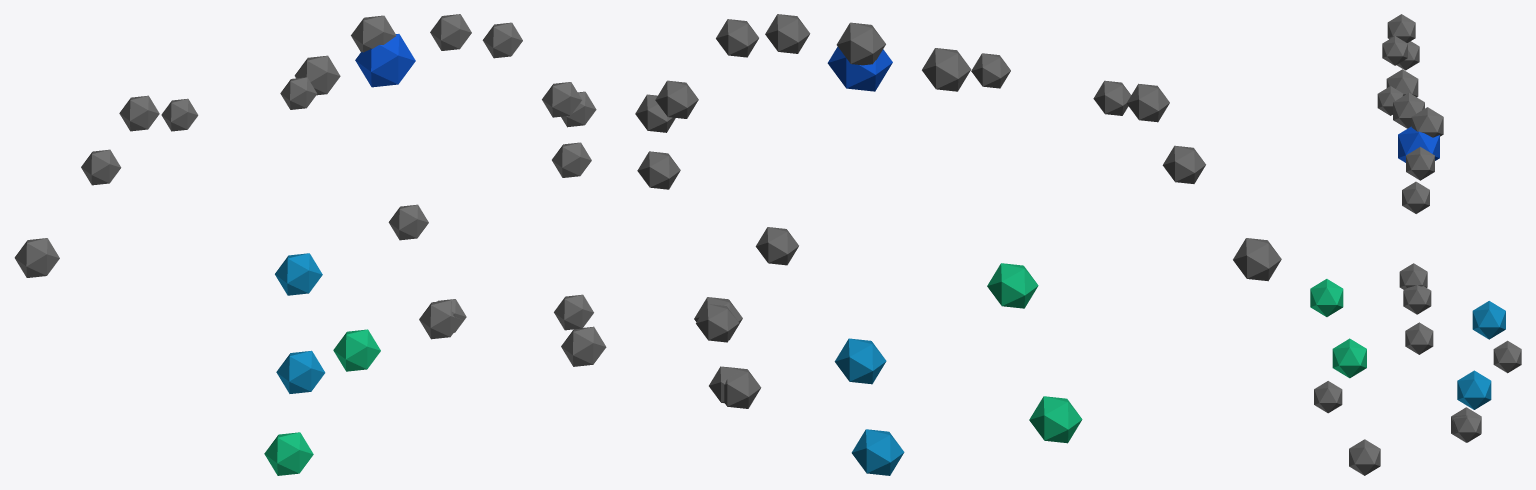
The picture shows the model from 3 angles, left to right: view 1: azimuth 30°, elevation 25°; view 2: azimuth 150°, elevation 25°; view 3: azimuth 270°, elevation 25°; orthographic projection. The views are drawn at different scales.
Parts seen in each view (by area): view 1: 06_01_04; view 2: 06_01_04; view 3: 06_01_04.
Boxes of the visible parts, x1=… form: 06_01_04: x1=14, y1=14, x2=606, y2=475; 06_01_04: x1=635, y1=14, x2=1281, y2=475; 06_01_04: x1=1310, y1=14, x2=1521, y2=475.
Bounding box in the file's own units: 0.6522 × 0.4168 × 0.2533.
